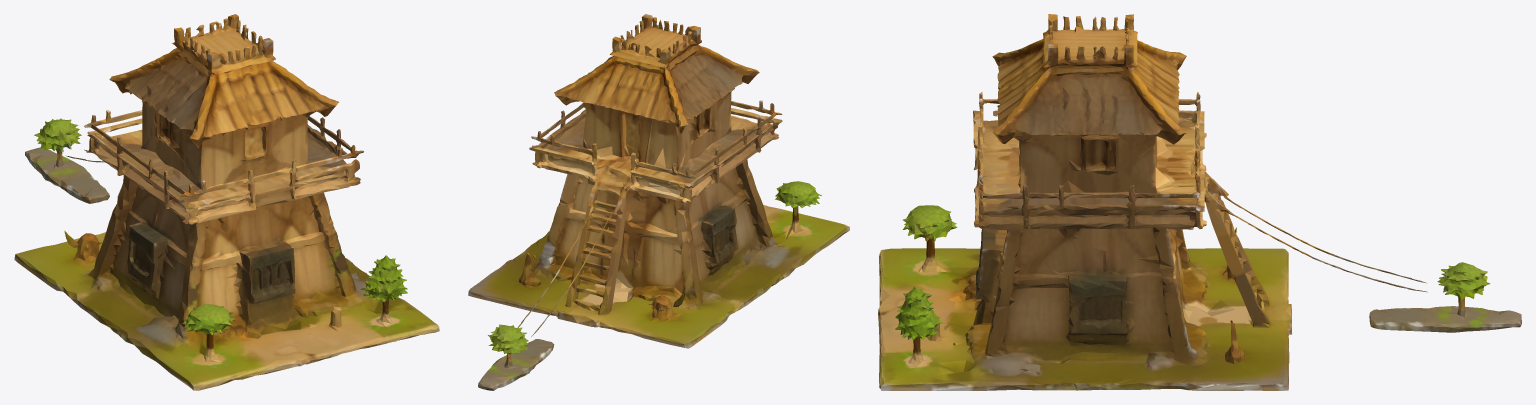
File: orc_tower.glb
The picture shows the model from 3 angles, left to right: view 1: azimuth 30°, elevation 25°; view 2: azimuth 150°, elevation 25°; view 3: azimuth 270°, elevation 25°; orthographic projection. The views are drawn at different scales.
Parts seen in each view (by area): view 1: orc_tower; view 2: orc_tower; view 3: orc_tower.
Part boxes in pixels (x1,y1,x2,y2): orc_tower: [14, 14, 439, 390]; orc_tower: [468, 14, 849, 390]; orc_tower: [878, 14, 1521, 390].
Size of the model in its own units: 0.9431 by 0.9478 by 1.89.
1 material, 1 textured.
